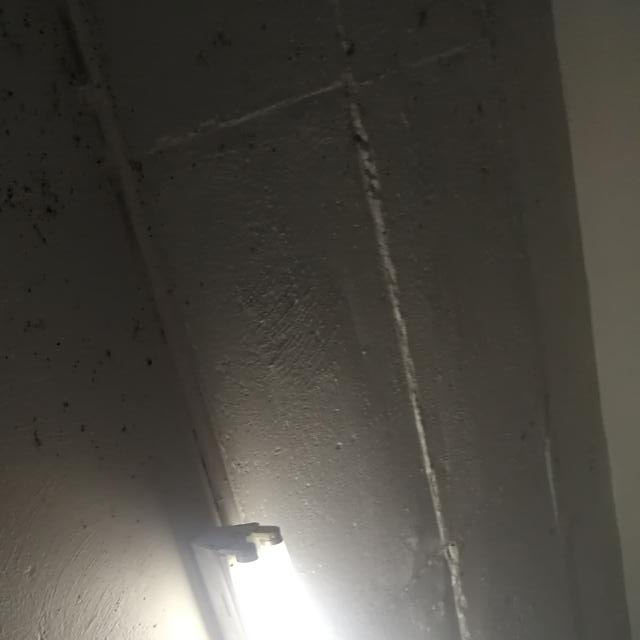fluorescent tube: (162, 470, 453, 640)
